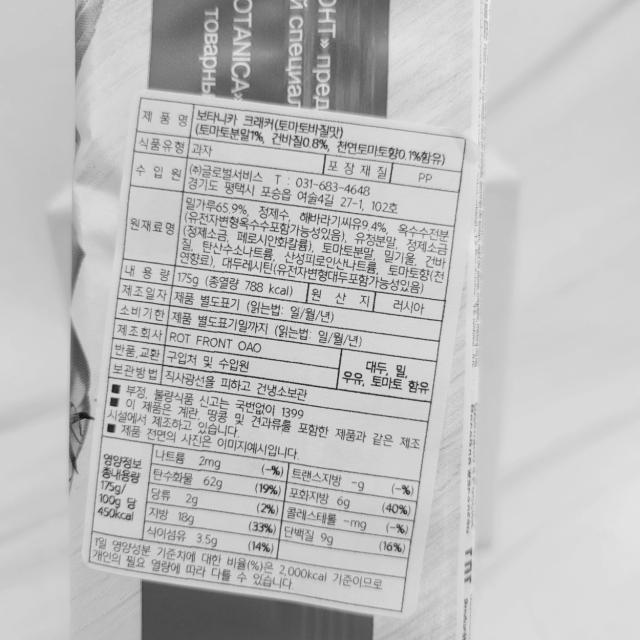Nutrition Label: (76, 435, 433, 586)
